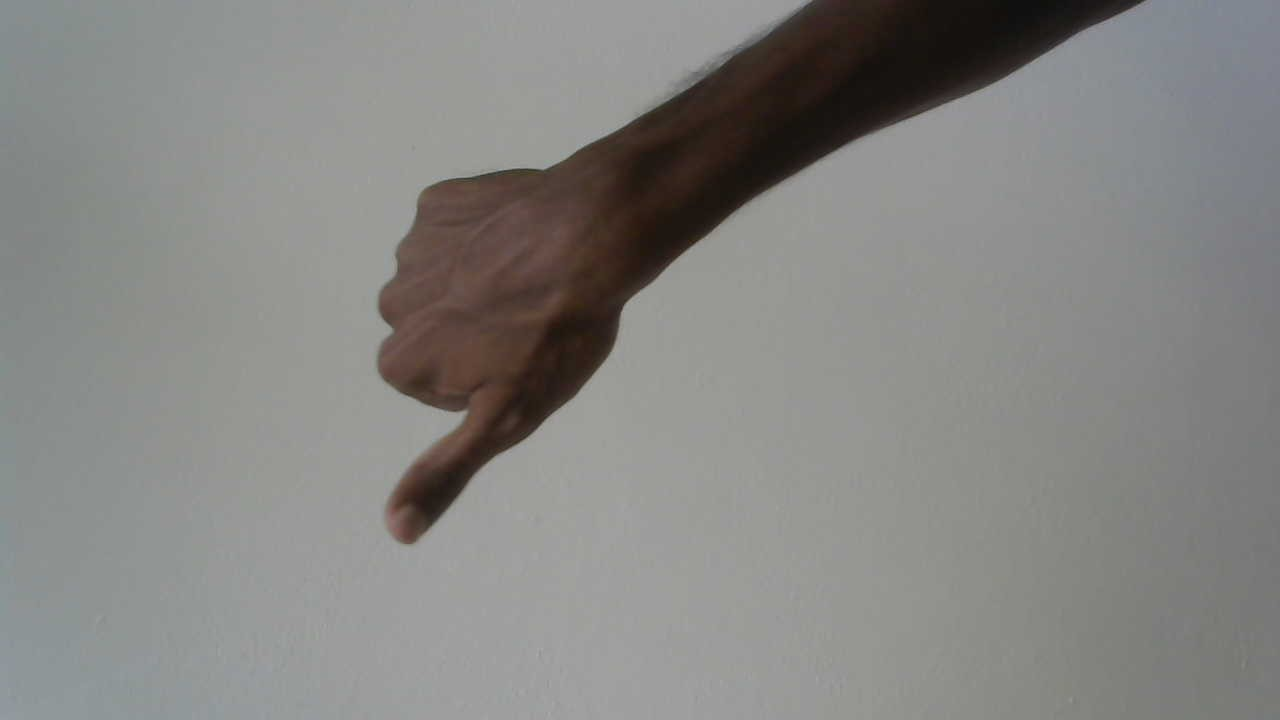thumbsdown: (361, 152, 636, 557)
